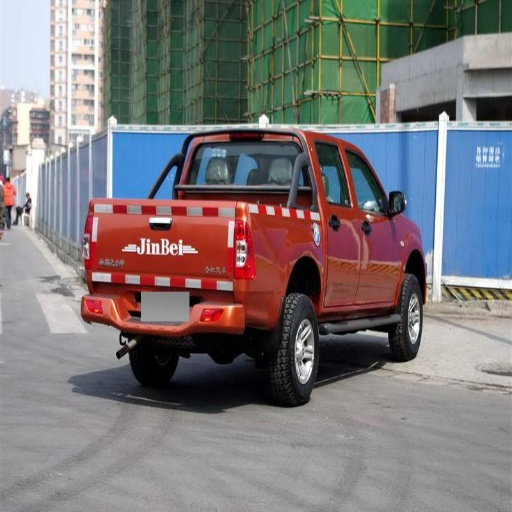back_bumper: (82, 284, 246, 342)
back_right_door: (314, 138, 362, 307)
trunk: (95, 183, 319, 327)
